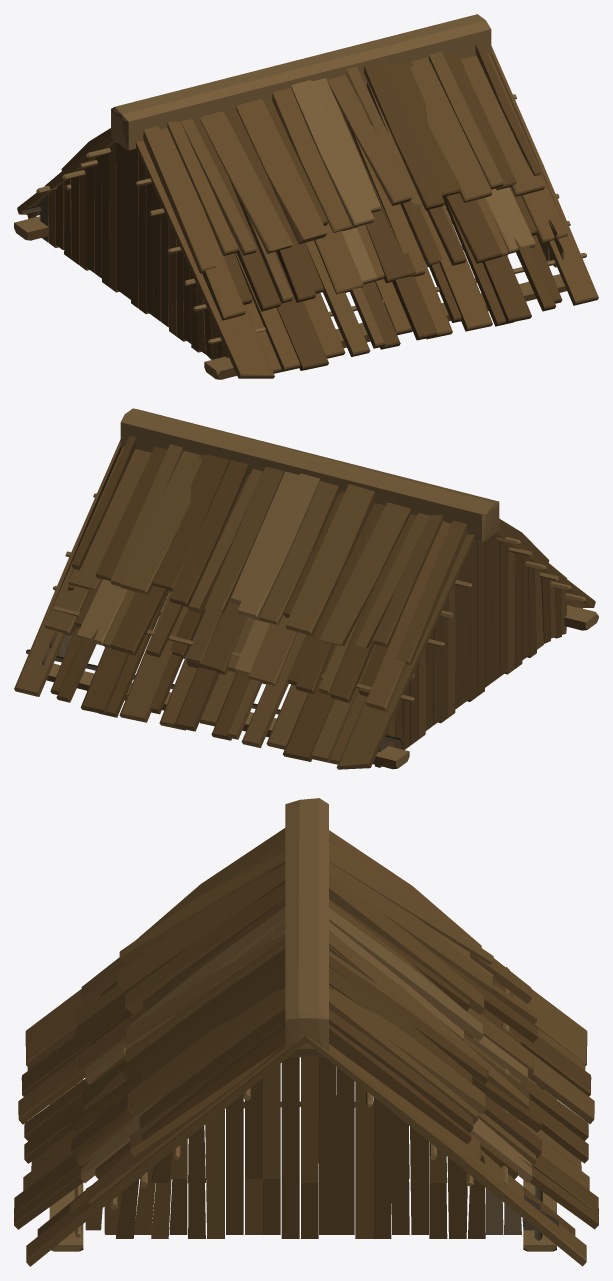
The model's file is EA03_Town_Ill_Roof_01a.glb.
3 renders of one model, top to bottom at view 1: azimuth 30°, elevation 25°; view 2: azimuth 150°, elevation 25°; view 3: azimuth 270°, elevation 25°, orthographic. The views are drawn at different scales.
Visible parts, largest first — view 1: EA03_Town_Ill_Roof_01a; view 2: EA03_Town_Ill_Roof_01a; view 3: EA03_Town_Ill_Roof_01a.
Boxes of the visible parts, x1,y1,x2,y2 form: EA03_Town_Ill_Roof_01a: (14, 14, 598, 379); EA03_Town_Ill_Roof_01a: (14, 408, 598, 769); EA03_Town_Ill_Roof_01a: (14, 798, 598, 1266).
Size of the model in its own units: 9.29 by 4.79 by 9.87.
1 material, 1 textured.
